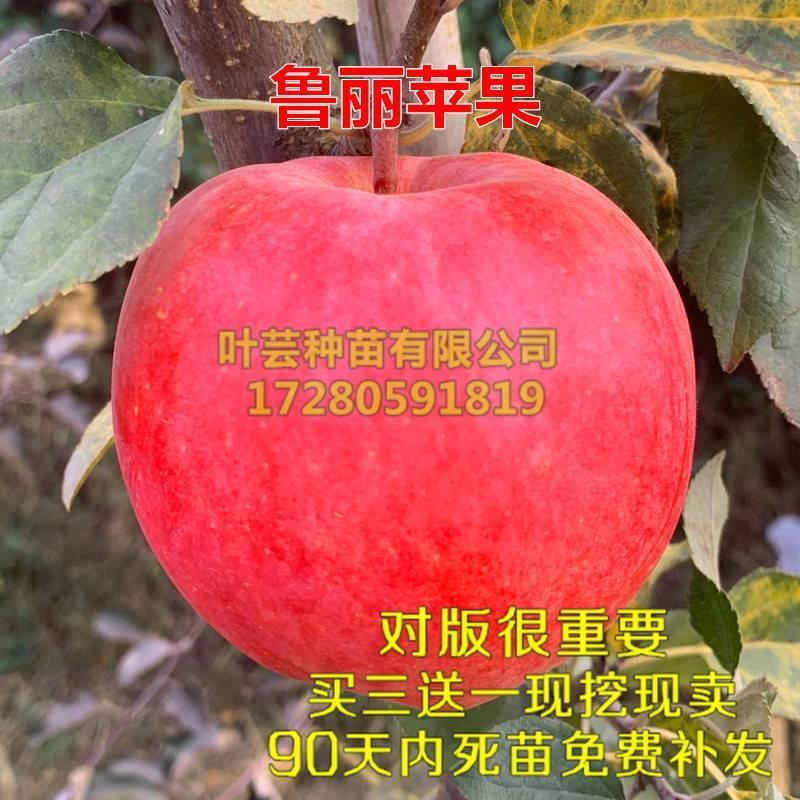apple: (109, 146, 702, 715)
